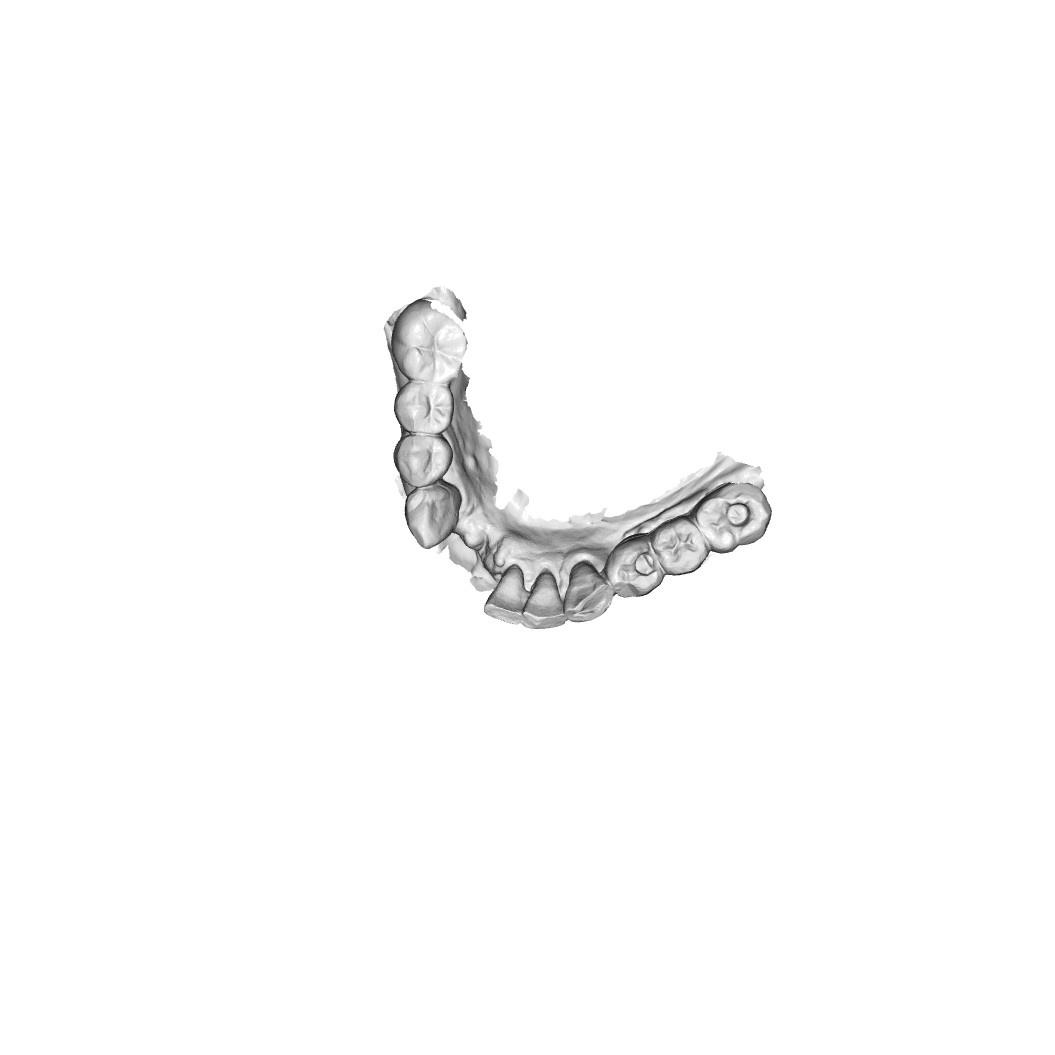canine: (562, 565, 611, 622)
incisor: (486, 566, 531, 621), (526, 573, 567, 628)
molar: (390, 298, 470, 382), (694, 481, 770, 558)
premolar: (397, 486, 459, 551), (392, 377, 455, 437), (387, 432, 450, 486), (611, 541, 664, 595), (655, 521, 702, 573)
